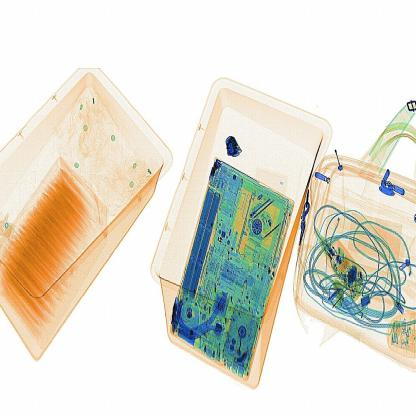scissors: (226, 132, 248, 160)
